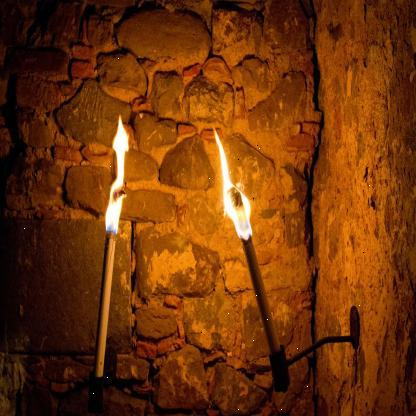fire: (97, 108, 140, 235), (209, 137, 259, 240)
